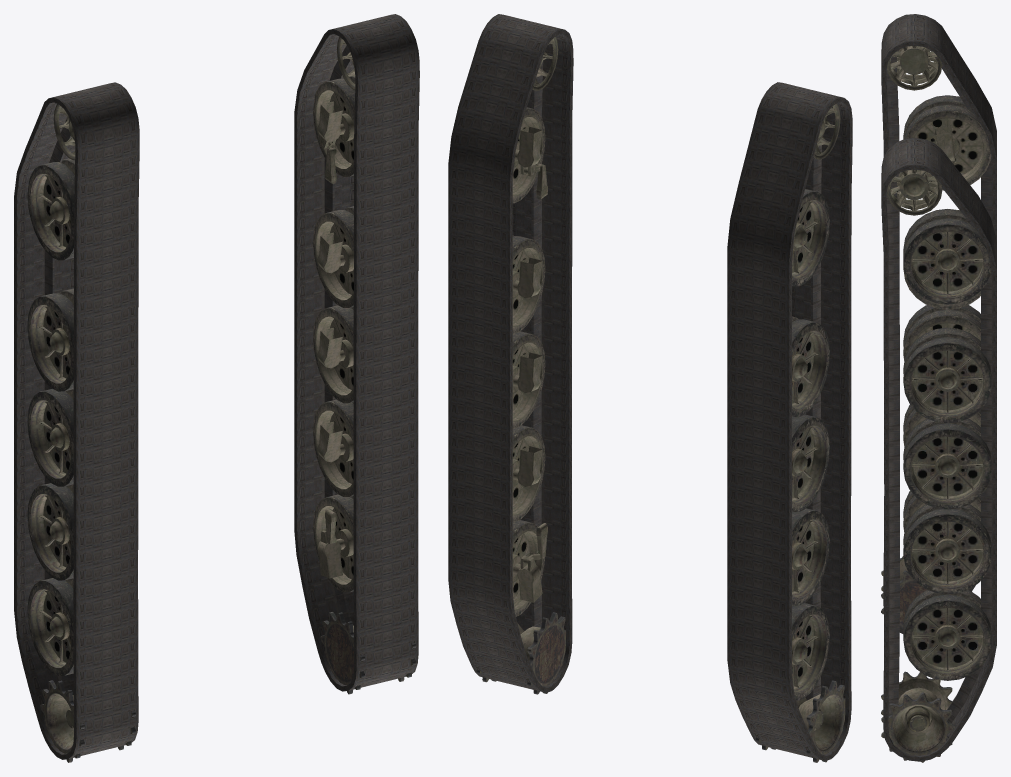
The model's file is Chassis.glb.
3 views of the same model, side by side, from view 1: azimuth 30°, elevation 25°; view 2: azimuth 150°, elevation 25°; view 3: azimuth 270°, elevation 25° (orthographic). The views are drawn at different scales.
Parts seen in each view (by area): view 1: set_1_group_0, set_0_group_0, set_2_group_0, set_3_group_0; view 2: set_1_group_0, set_0_group_0, set_2_group_0, set_3_group_0; view 3: set_3_group_0, set_1_group_0, set_2_group_0, set_0_group_0.
Boxes of the visible parts, x1,y1,x2,y2 form: set_1_group_0: (294,14,419,691); set_0_group_0: (14,82,139,759); set_2_group_0: (27,104,136,762); set_3_group_0: (313,37,416,694); set_1_group_0: (448,14,573,692); set_0_group_0: (727,82,852,760); set_2_group_0: (755,103,845,762); set_3_group_0: (476,37,565,694); set_3_group_0: (881,169,991,762); set_1_group_0: (881,137,996,761); set_2_group_0: (881,46,991,627); set_0_group_0: (881,14,996,634).
Size of the model in its own units: 3.19 by 5.9 by 1.03.
Materials: 4 (4 with a texture image).
